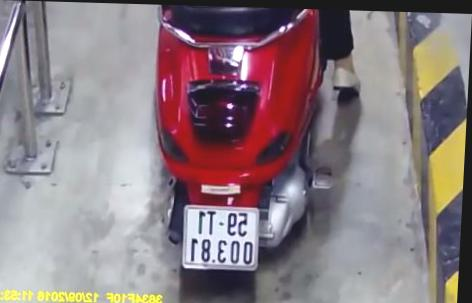License_Plate: (175, 199, 266, 274)
